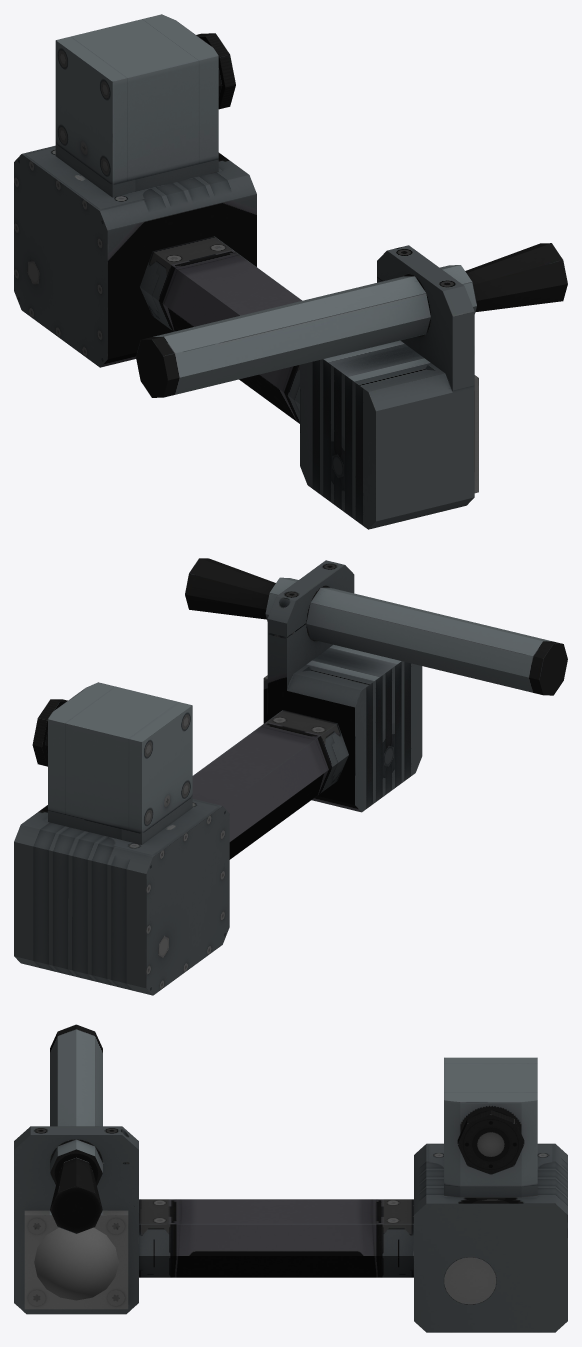
Rendered from tilt.dae.
3 views of the same model, one above another, from view 1: azimuth 30°, elevation 25°; view 2: azimuth 150°, elevation 25°; view 3: azimuth 270°, elevation 25° (orthographic). The views are drawn at different scales.
Parts seen in each view (by area): view 1: Cube; view 2: Cube; view 3: Cube.
Part boxes in pixels (x1,y1,x2,y2): Cube: (14, 14, 567, 529); Cube: (14, 558, 567, 995); Cube: (14, 1024, 567, 1332).
Bounding box in the file's own units: 0.1825 × 0.266 × 0.1187.
Materials: 1 (1 with a texture image).
